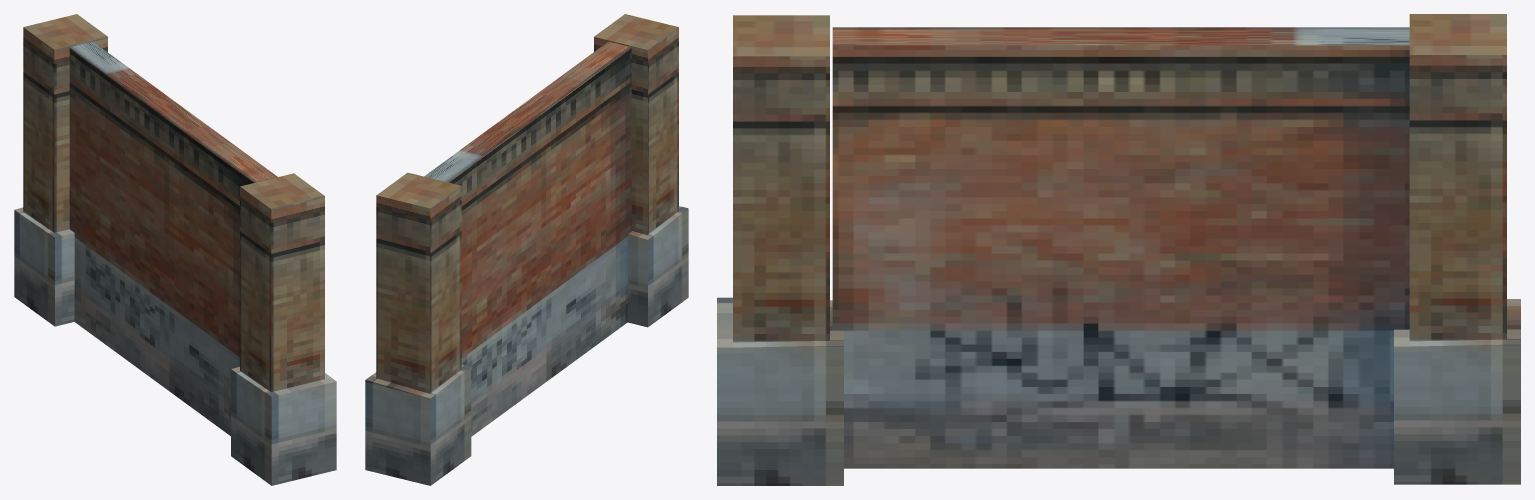
Rendered from wall_new.fbx.
The picture shows the model from 3 angles, left to right: view 1: azimuth 30°, elevation 25°; view 2: azimuth 150°, elevation 25°; view 3: azimuth 270°, elevation 25°; orthographic projection. The views are drawn at different scales.
Visible parts, largest first — view 1: wall; view 2: wall; view 3: wall.
Boxes of the visible parts, <box> form: wall: <box>14,14,336,485</box>; wall: <box>365,14,688,485</box>; wall: <box>717,14,1520,485</box>.
Bounding box in the file's own units: 330 × 1317 × 2254.
Materials: 2 (2 with a texture image).
